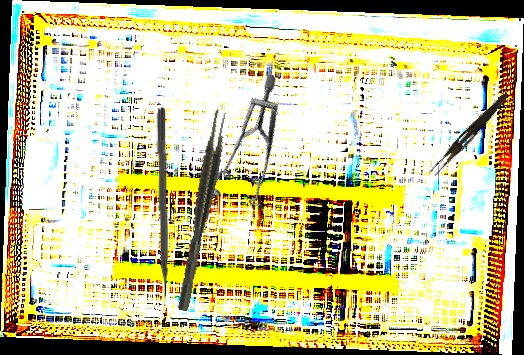Dressing Forceps: (429, 88, 511, 179)
Pusher: (154, 107, 170, 314)
Speculum: (175, 71, 333, 225)
Tissue Forceps: (170, 108, 232, 312)
